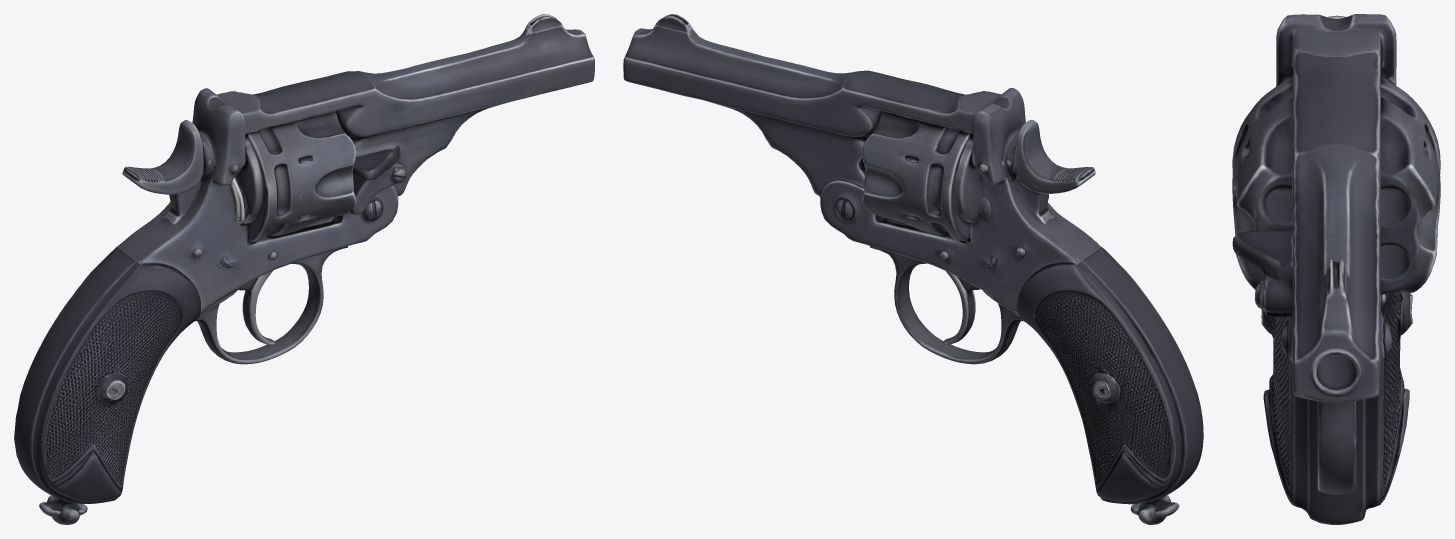
Rendered from revolver.glb.
The picture shows the model from 3 angles, left to right: view 1: azimuth 30°, elevation 25°; view 2: azimuth 150°, elevation 25°; view 3: azimuth 270°, elevation 25°; orthographic projection. The views are drawn at different scales.
Visible parts, largest first — view 1: tripo_node_28850a6c-49e3-49ae-a9da-245d6095a573; view 2: tripo_node_28850a6c-49e3-49ae-a9da-245d6095a573; view 3: tripo_node_28850a6c-49e3-49ae-a9da-245d6095a573.
Boxes of the visible parts, x1=… form: tripo_node_28850a6c-49e3-49ae-a9da-245d6095a573: x1=14, y1=14, x2=594, y2=524; tripo_node_28850a6c-49e3-49ae-a9da-245d6095a573: x1=623, y1=14, x2=1203, y2=524; tripo_node_28850a6c-49e3-49ae-a9da-245d6095a573: x1=1232, y1=14, x2=1440, y2=524.
Size of the model in its own units: 0.9811 by 0.6507 by 0.1956.
Materials: 1 (1 with a texture image).
